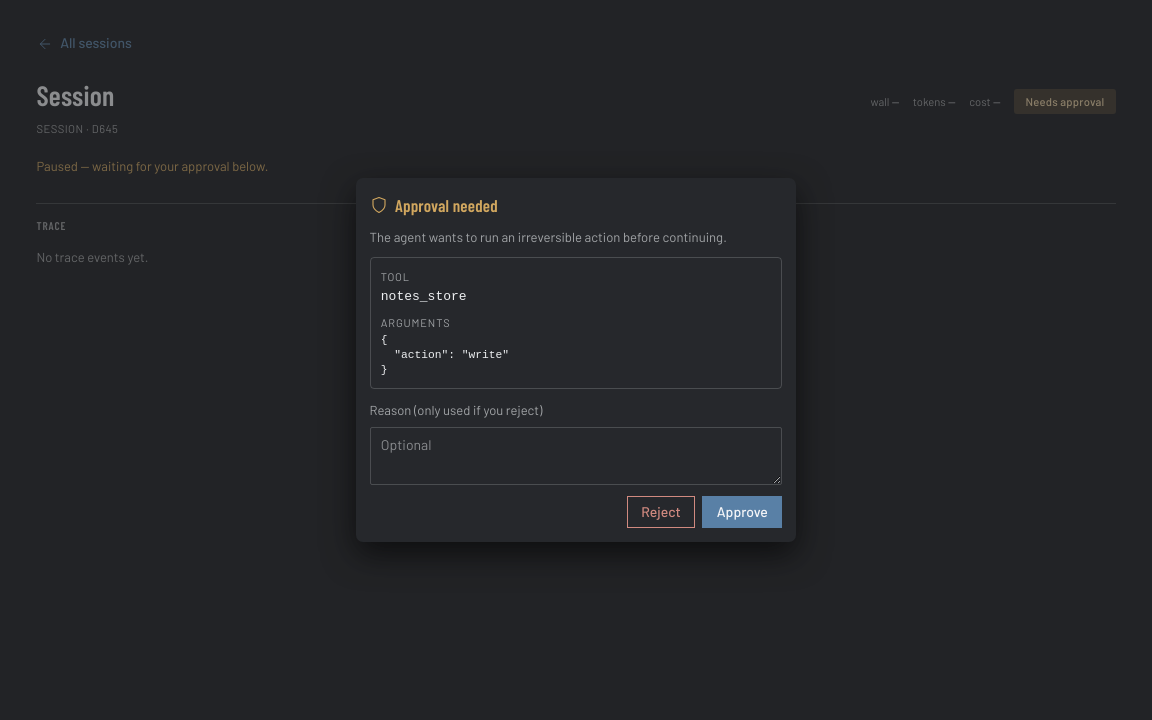
SessionPage › keeps a successful decision closed when the trace refresh fails
The image size is (1152, 720).
Expected: the dialog is shown, [356,178,796,542]
Click the button "Approve" at (742,512), box [702,496,782,528]
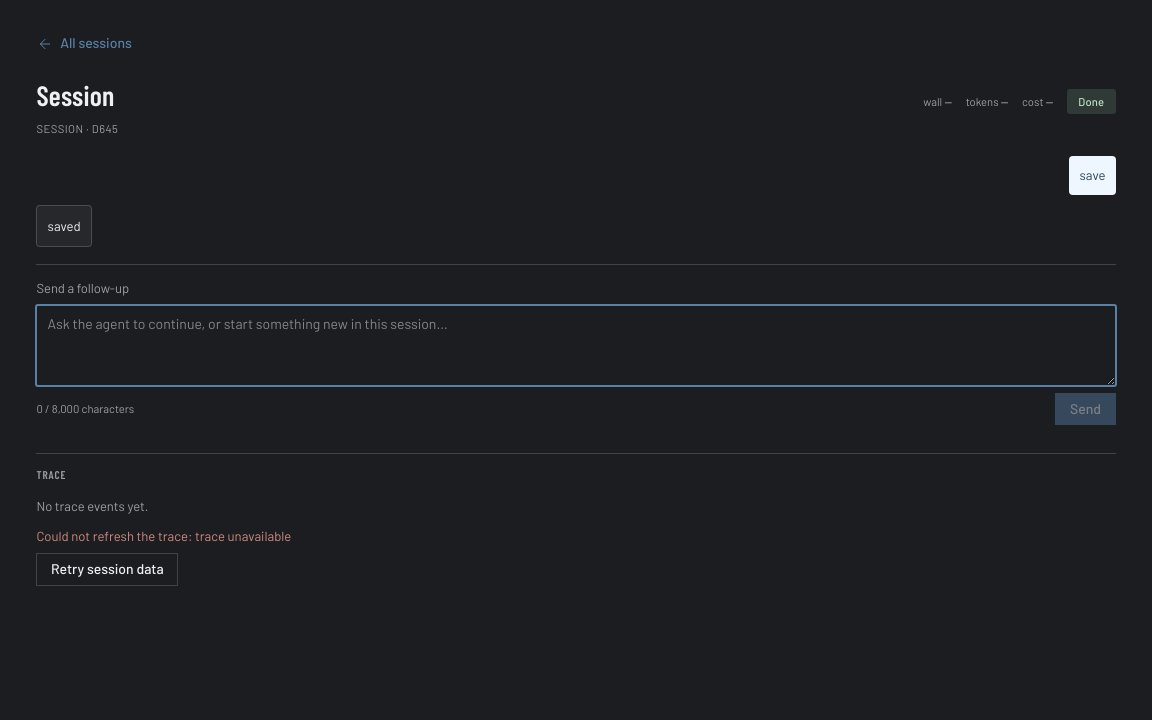
Now the text "saved" is shown, box [36,205,92,246]
Now the dialog is gone
Now the message shows "trace unavailable", box [195,528,291,544]
